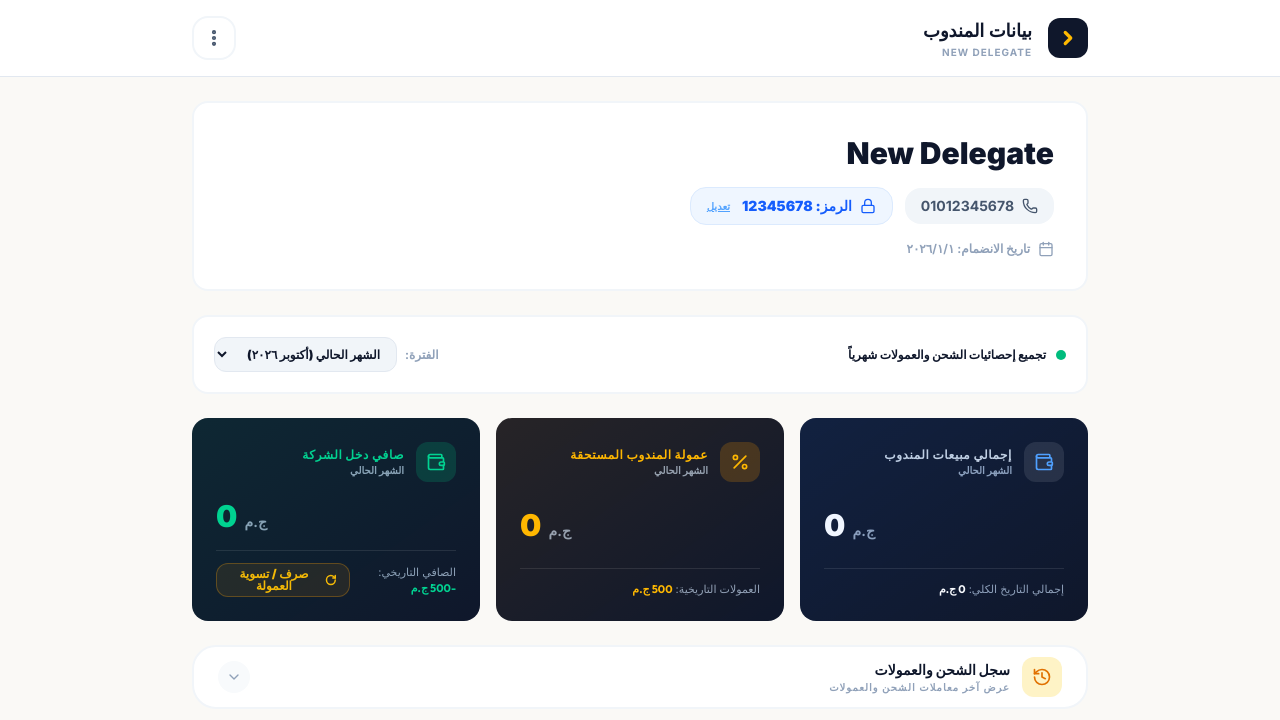
it: AdminDelegateDetailsView Component › ignores late history responses from the previously selected delegate
This screenshot has width=1280, height=720.
Click the heading "سجل الشحن والعمولات".
click(942, 669)  # box top-left (874, 660), bottom-right (1010, 678)
(page scrolled)
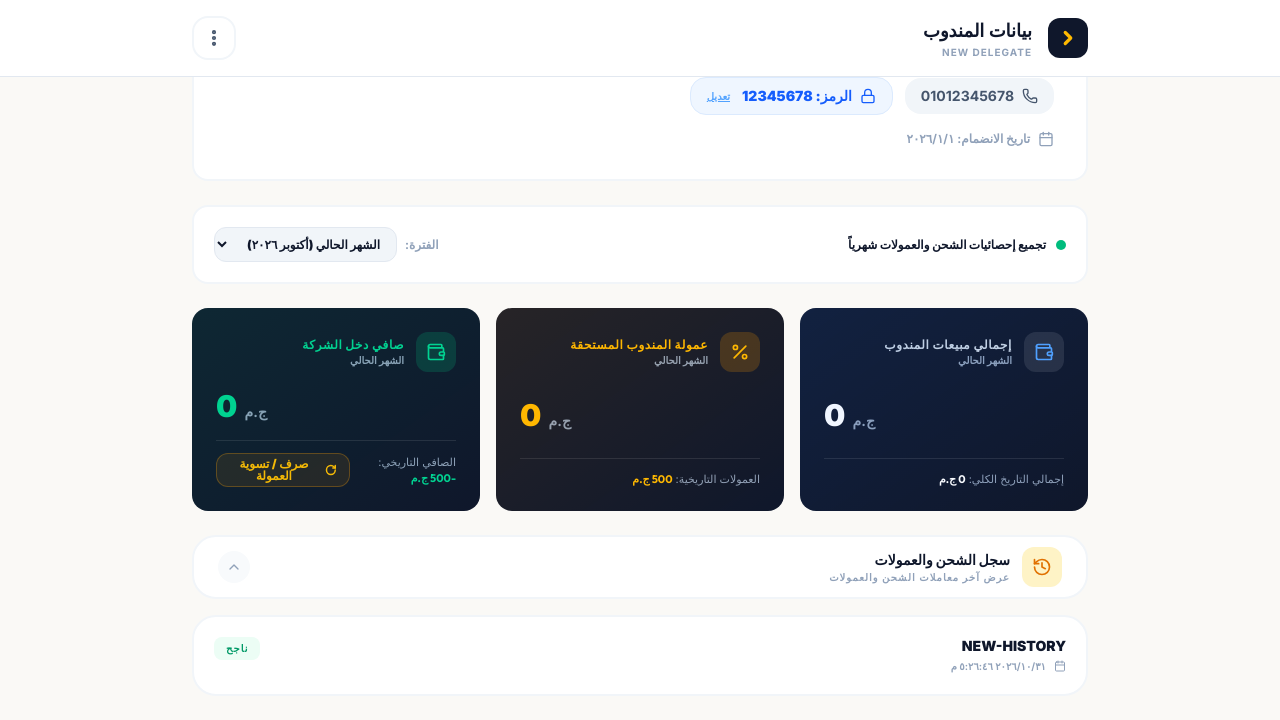
Check: the text "NEW-HISTORY" is shown, box top-left (951, 637), bottom-right (1066, 654)
